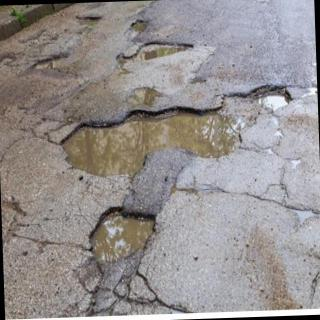pothole: (61, 86, 292, 178), (88, 207, 156, 291), (116, 44, 194, 64), (79, 16, 101, 24)
